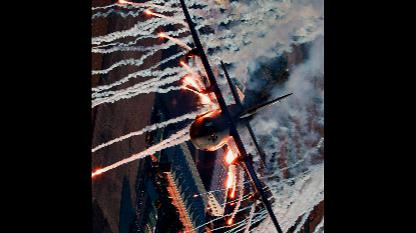Be200: (172, 0, 296, 232)
